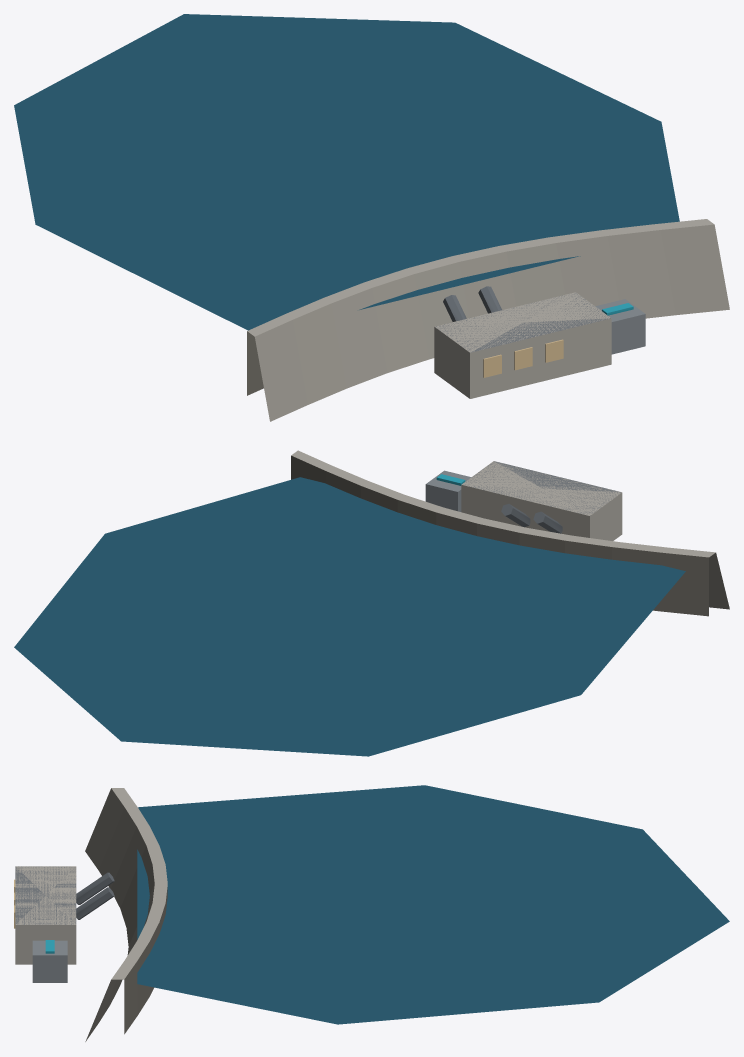
The model's file is plant_hydro_l2.fbx.
The picture shows the model from 3 angles, top to bottom: view 1: azimuth 30°, elevation 25°; view 2: azimuth 150°, elevation 25°; view 3: azimuth 270°, elevation 25°; orthographic projection. The views are drawn at different scales.
Parts seen in each view (by area): view 1: plant_hydro_l2; view 2: plant_hydro_l2; view 3: plant_hydro_l2.
Part boxes in pixels (left/top/right/bottom): plant_hydro_l2: left=14, top=14, right=729, bottom=421; plant_hydro_l2: left=14, top=450, right=729, bottom=756; plant_hydro_l2: left=14, top=785, right=729, bottom=1041.
Bounding box in the file's own units: 130 × 16 × 164.
